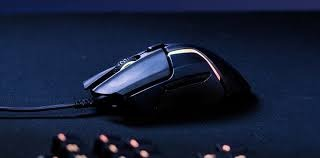mouse: (88, 37, 268, 123)
